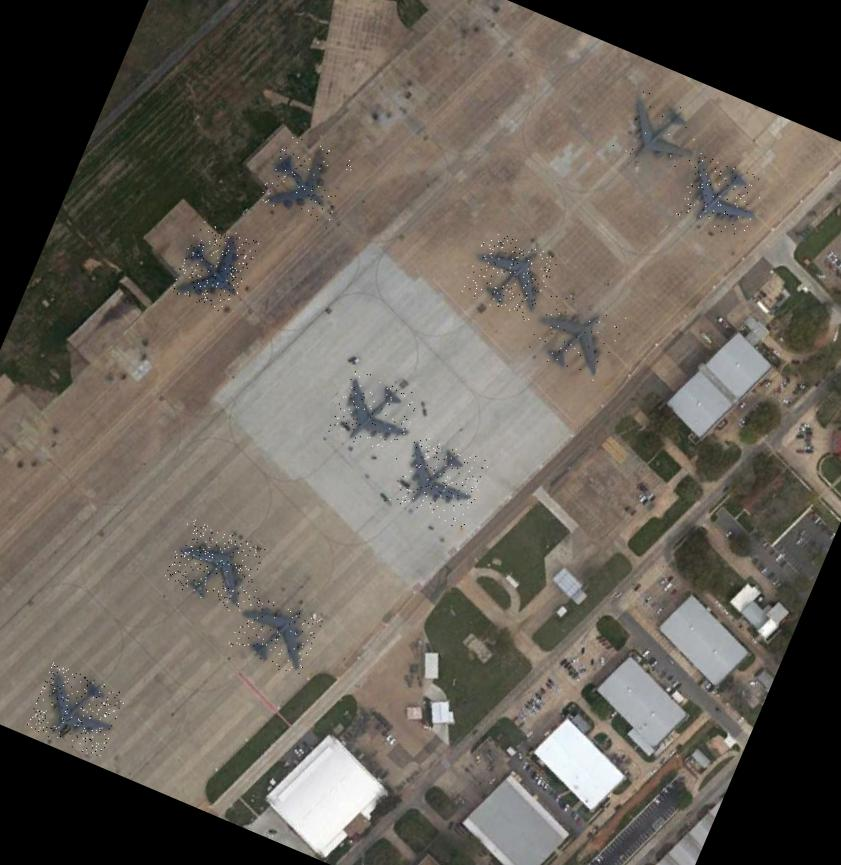A8: (160, 516, 266, 614), (388, 430, 490, 530), (523, 285, 626, 384), (25, 662, 127, 758), (256, 130, 354, 228), (460, 227, 560, 323), (226, 587, 325, 679), (610, 86, 708, 178), (326, 367, 422, 460), (169, 216, 258, 316), (674, 150, 768, 242)
